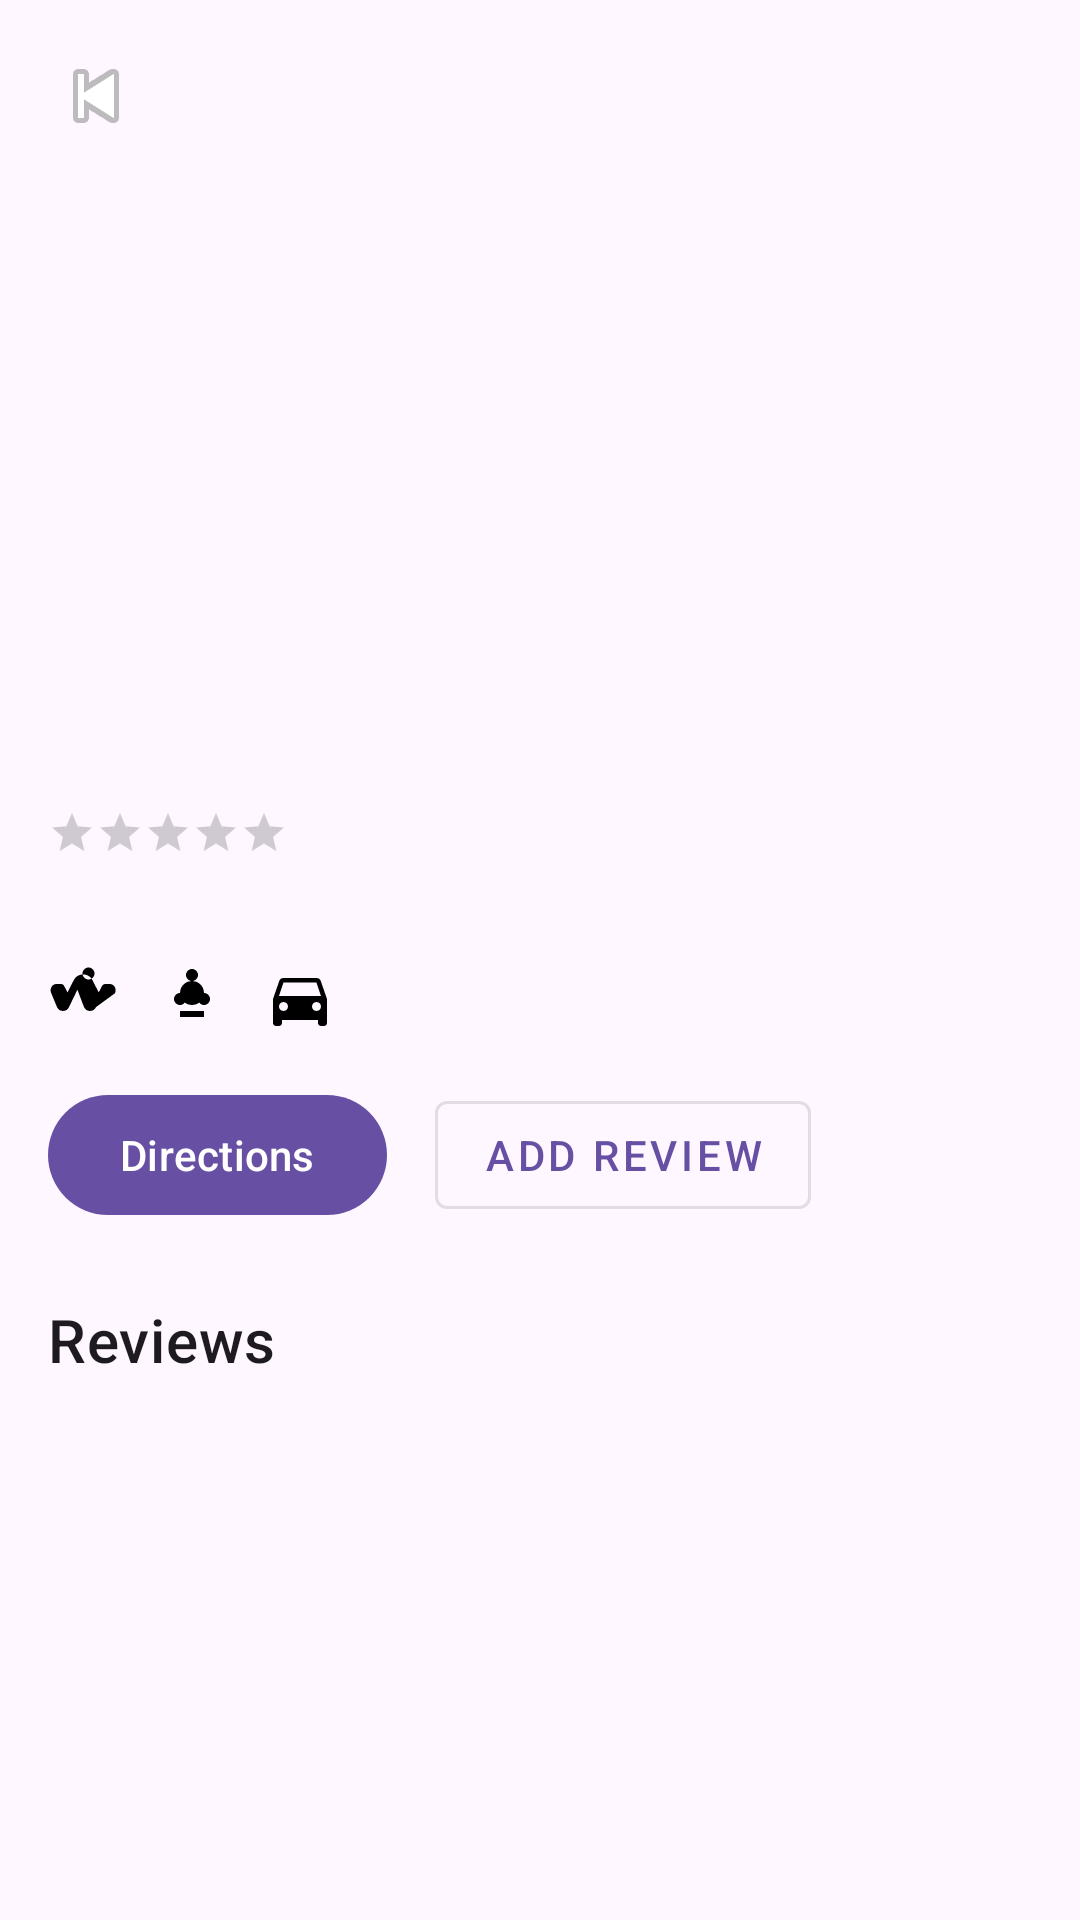

Point at icon controls on the screen. Image size 1080*1920, points as point (x, y).
previous: point (96, 96)
